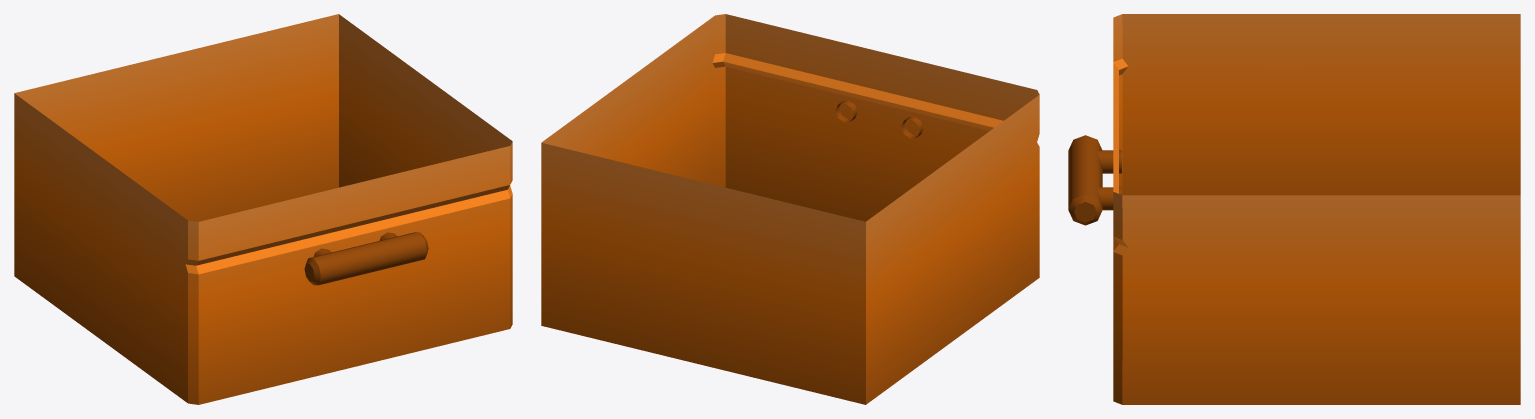
Rendered from Counter_01_v02_C03.fbx.
The picture shows the model from 3 angles, left to right: view 1: azimuth 30°, elevation 25°; view 2: azimuth 150°, elevation 25°; view 3: azimuth 270°, elevation 25°; orthographic projection. The views are drawn at different scales.
Parts seen in each view (by area): view 1: Counter_01_v02_C03; view 2: Counter_01_v02_C03; view 3: Counter_01_v02_C03.
Boxes of the visible parts, bbox=[...] form: Counter_01_v02_C03: bbox=[14, 14, 512, 404]; Counter_01_v02_C03: bbox=[541, 14, 1039, 404]; Counter_01_v02_C03: bbox=[1068, 14, 1520, 404].
Bounding box in the file's own units: 100 × 53.91 × 105.
